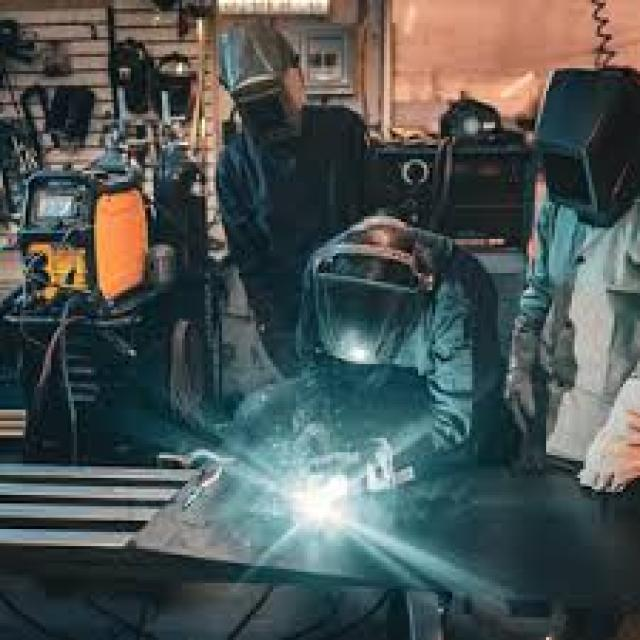welding: (303, 485, 330, 517)
